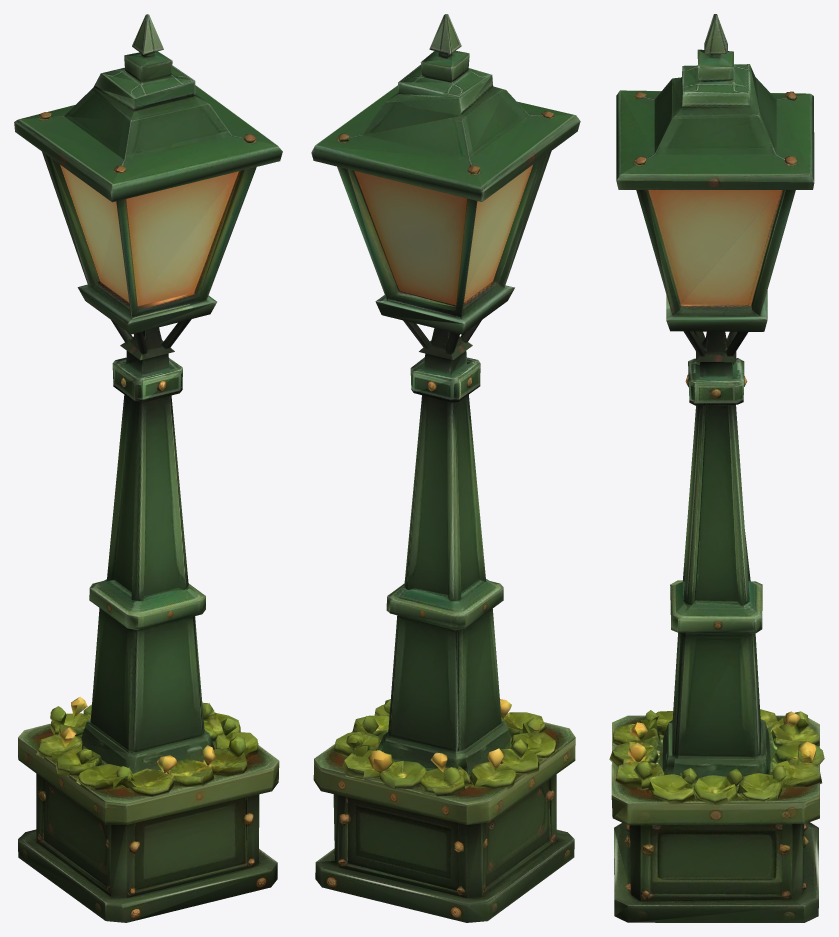
The model's file is streetlamp.glb.
3 renders of one model, left to right at view 1: azimuth 30°, elevation 25°; view 2: azimuth 150°, elevation 25°; view 3: azimuth 270°, elevation 25°, orthographic.
Size of the model in its own units: 0.2256 by 1 by 0.2256.
Materials: 1 (1 with a texture image).
